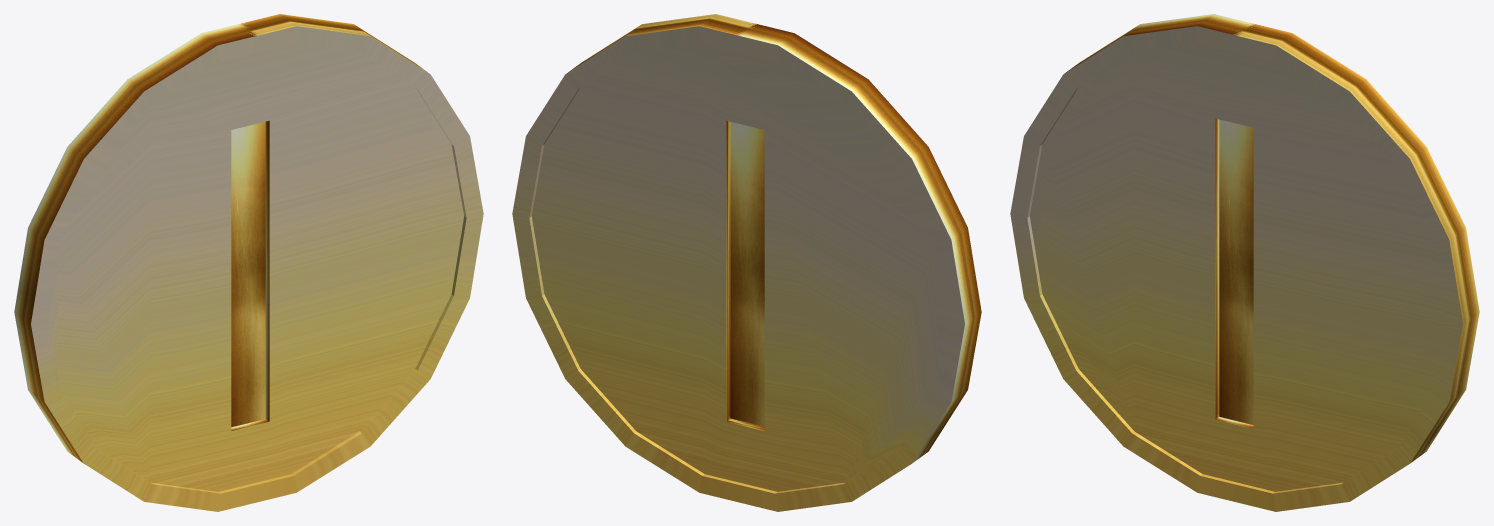
File: coin.fbx
3 views of the same model, side by side, from view 1: azimuth 30°, elevation 25°; view 2: azimuth 150°, elevation 25°; view 3: azimuth 330°, elevation 25° (orthographic).
Parts seen in each view (by area): view 1: Cylinder001; view 2: Cylinder001; view 3: Cylinder001.
Part boxes in pixels (left/top/right/bottom): Cylinder001: left=14, top=14, right=483, bottom=511; Cylinder001: left=512, top=14, right=981, bottom=511; Cylinder001: left=1010, top=14, right=1479, bottom=511.
Size of the model in its own units: 128 by 8.14 by 126.
Materials: 1 (1 with a texture image).
